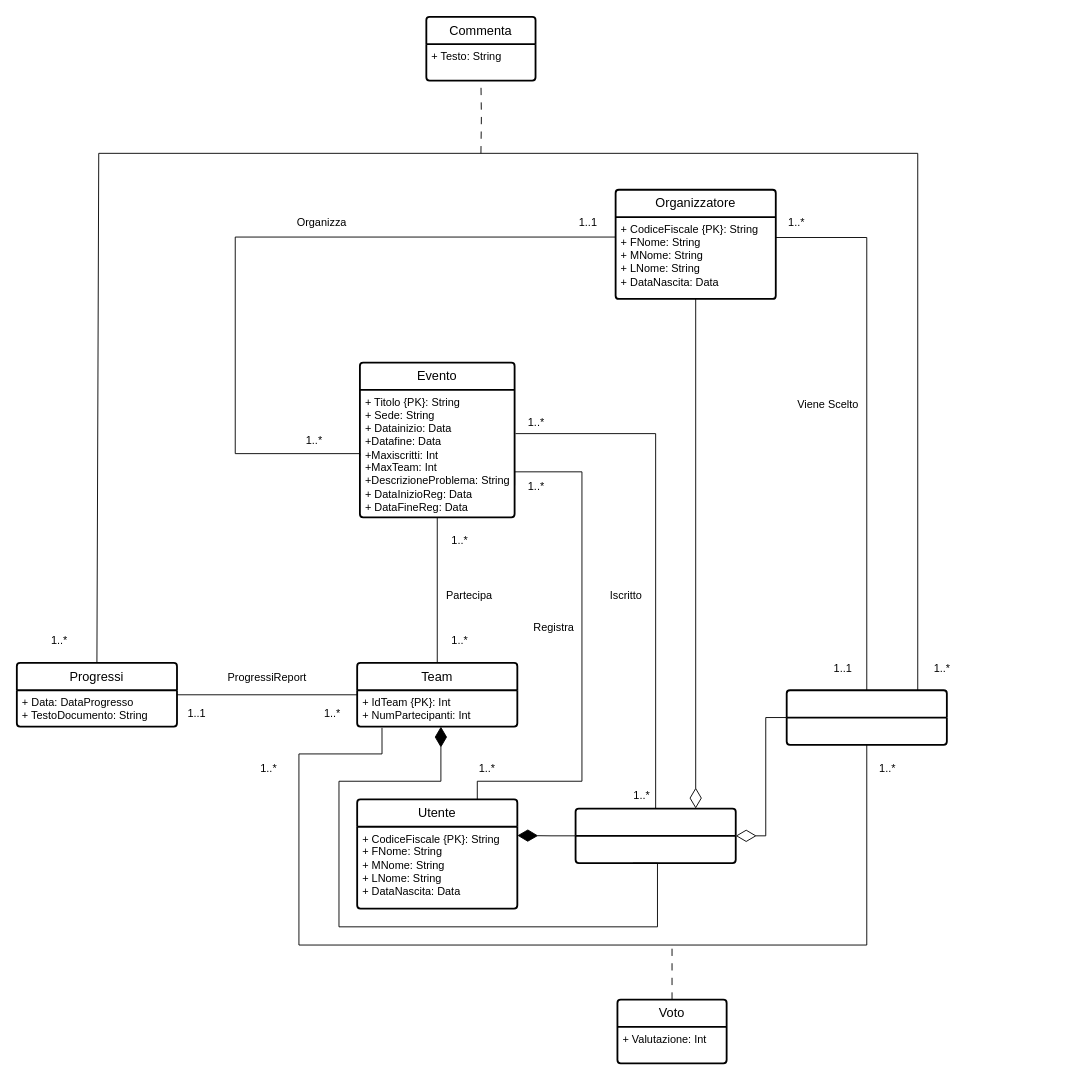
The diagram is 1079 pixels wide and 1079 high, and some of its shapes have lost their labels. The shapes that lost their labels are listed below. From the top down, each one's centre as x and y in pixels, then its label:
At (866,717): "Giudice".
At (655,835): "UtenteRegistrato".
